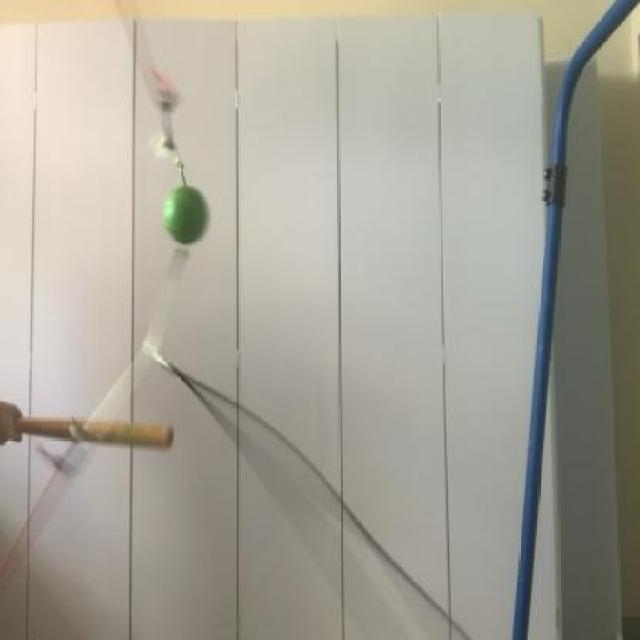baseball: (150, 169, 213, 249)
